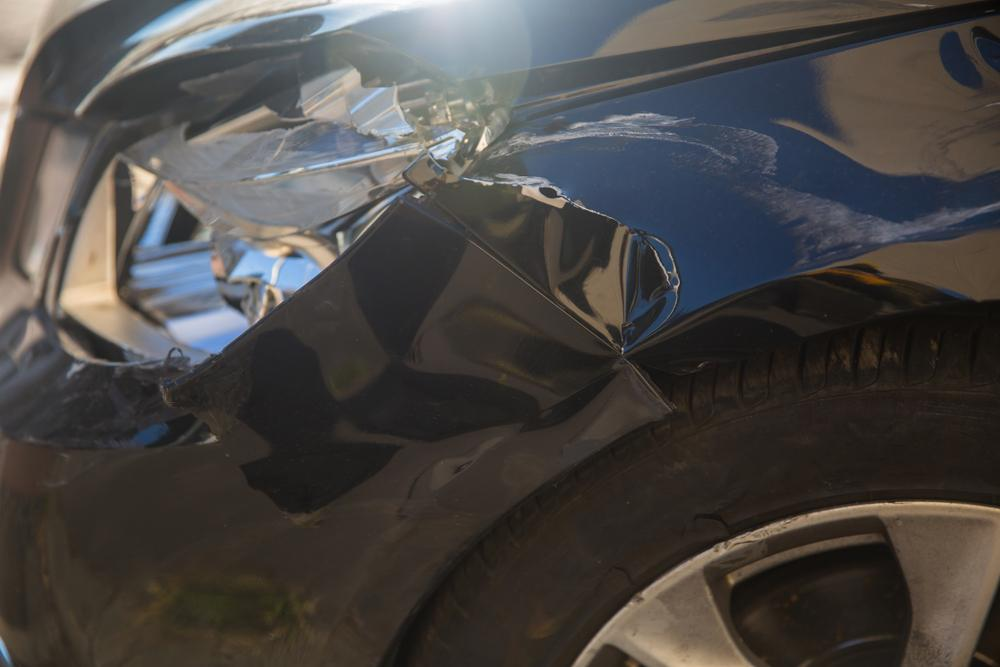dent: (248, 207, 620, 510), (440, 178, 682, 351)
lamp broken: (58, 48, 493, 367)
scratch: (485, 107, 1000, 274)
